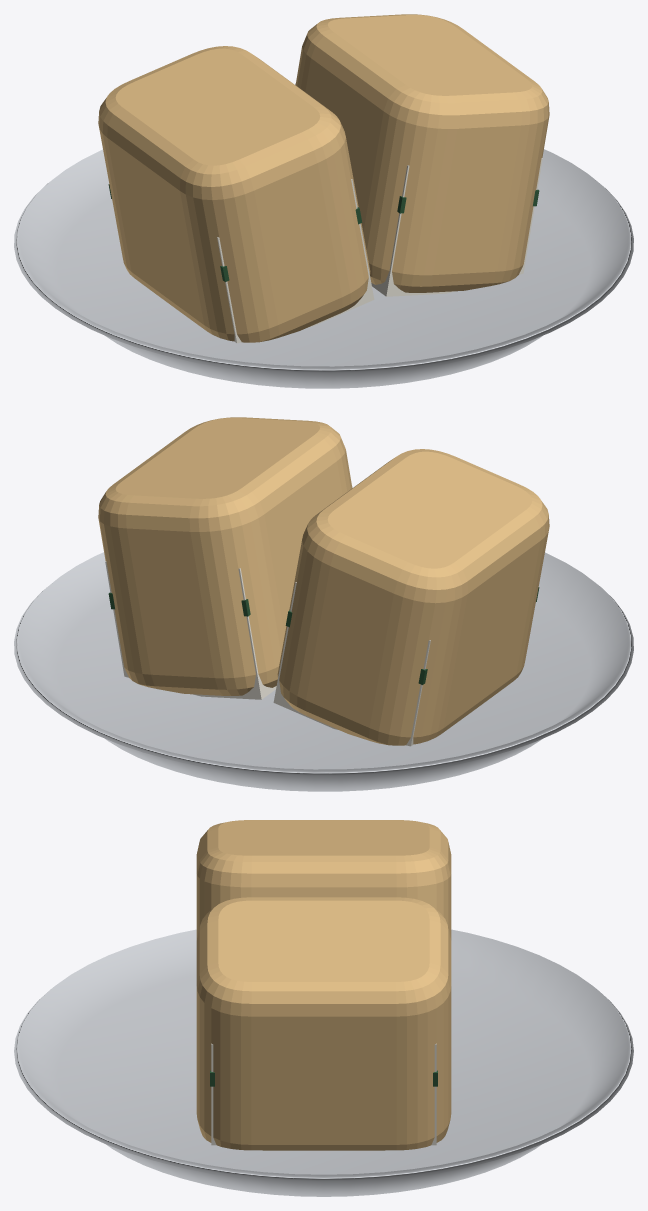
File: mezzogiorno-super-focacciona-vegetariana.glb
3 views of the same model, one above another, from view 1: azimuth 30°, elevation 25°; view 2: azimuth 150°, elevation 25°; view 3: azimuth 270°, elevation 25° (orthographic).
Size of the model in its own units: 0.22 by 0.0833 by 0.22.
